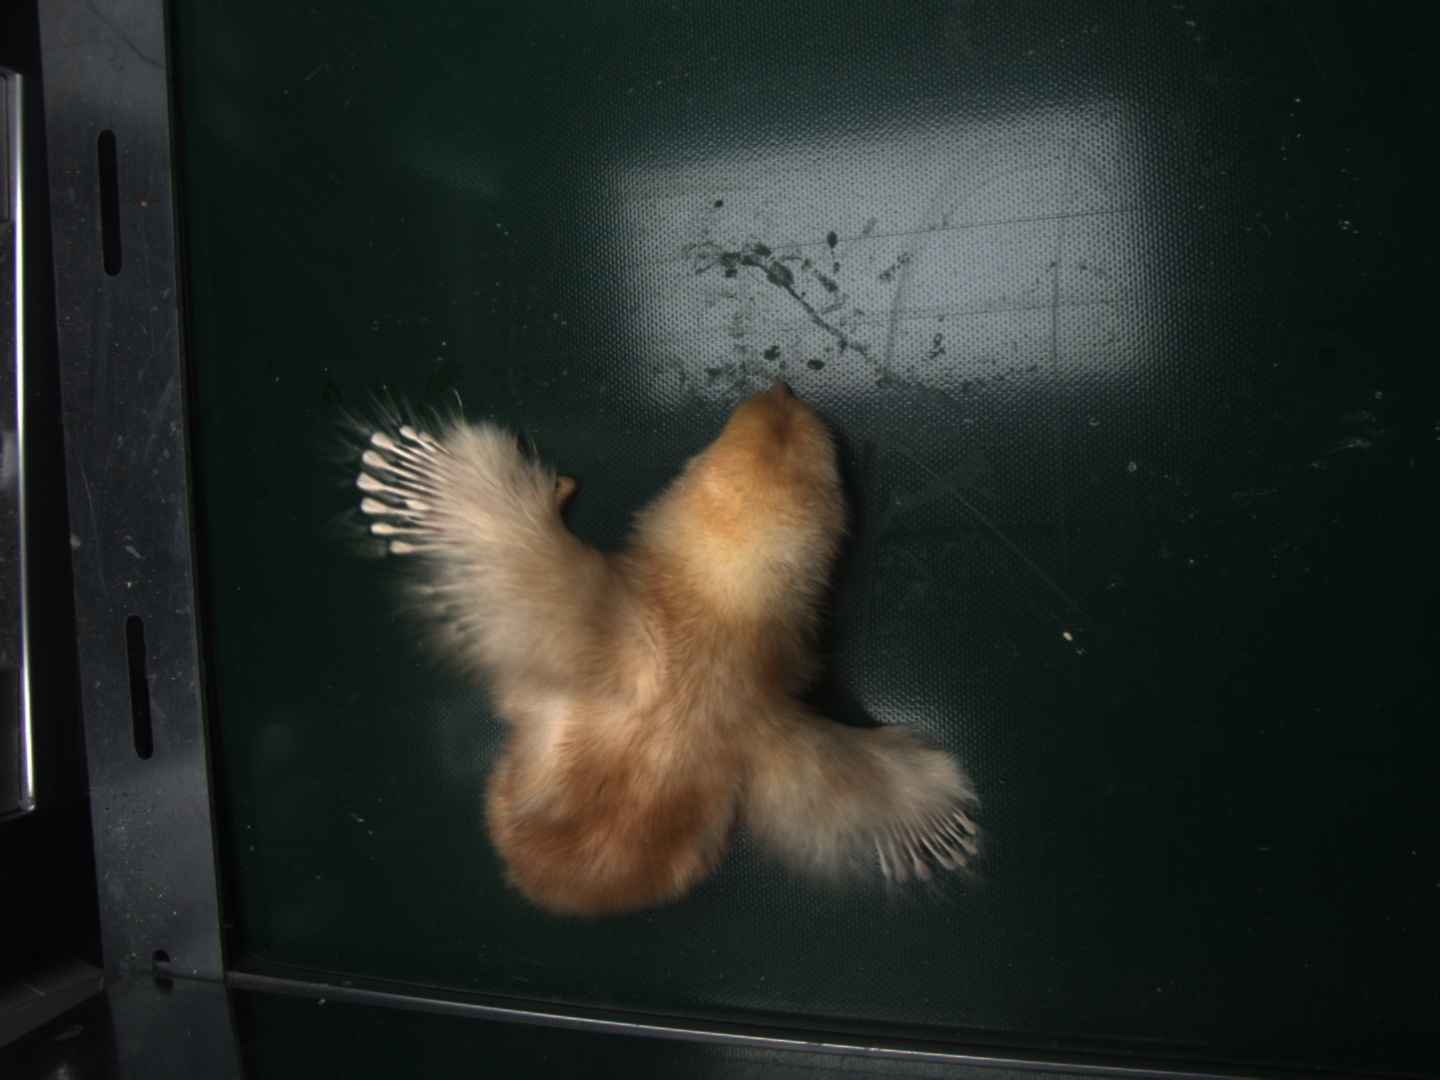female: (356, 423, 464, 558), (875, 801, 981, 876)
